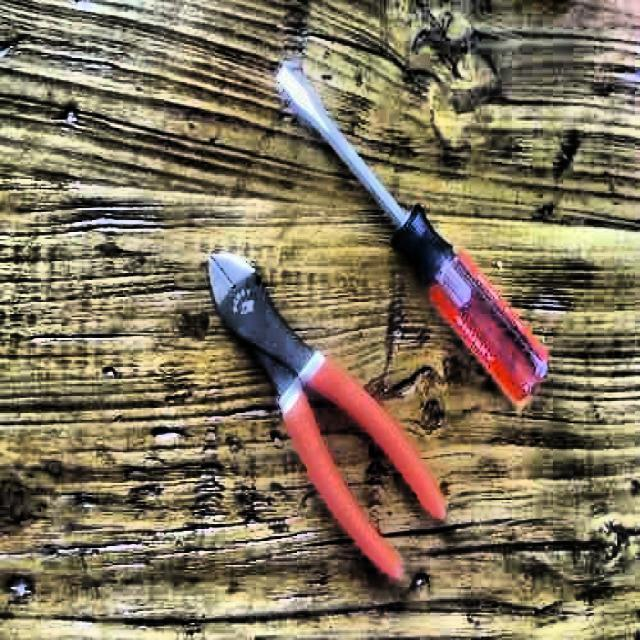screwdriver: (279, 66, 549, 408)
